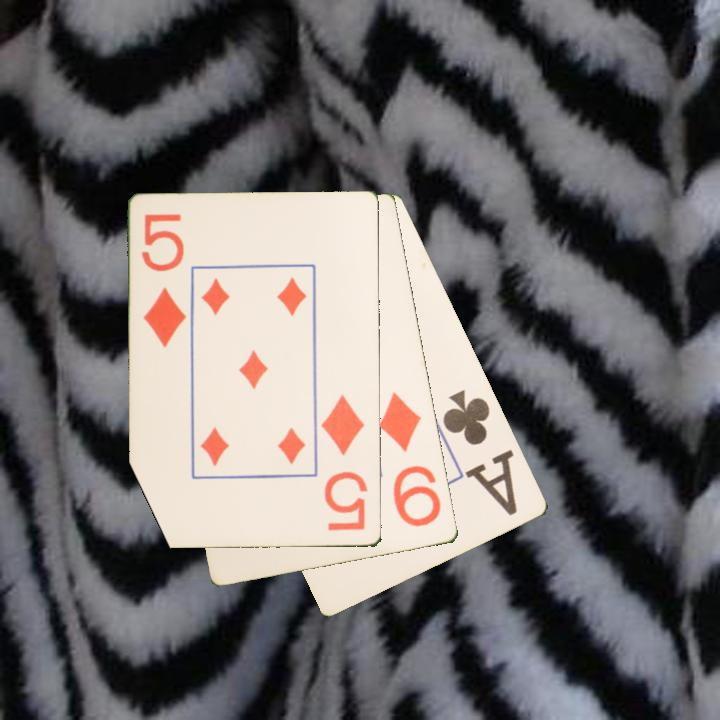5d: (318, 391, 371, 534), (138, 210, 189, 350)
9d: (375, 388, 445, 530)
Ac: (439, 386, 521, 519)
